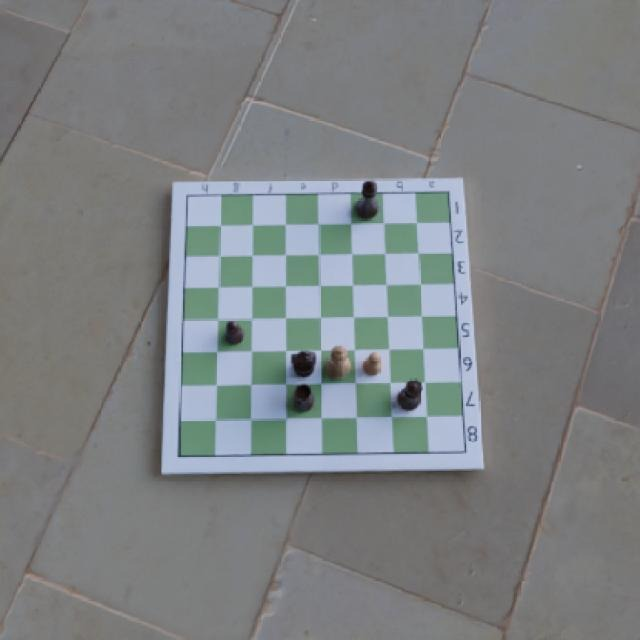black-king: (354, 179, 382, 221)
black-knight: (289, 346, 317, 382)
black-pawn: (222, 319, 248, 347)
black-queen: (395, 377, 424, 413)
black-rook: (290, 382, 317, 414)
white-king: (322, 343, 353, 381)
white-pawn: (360, 350, 385, 379)
